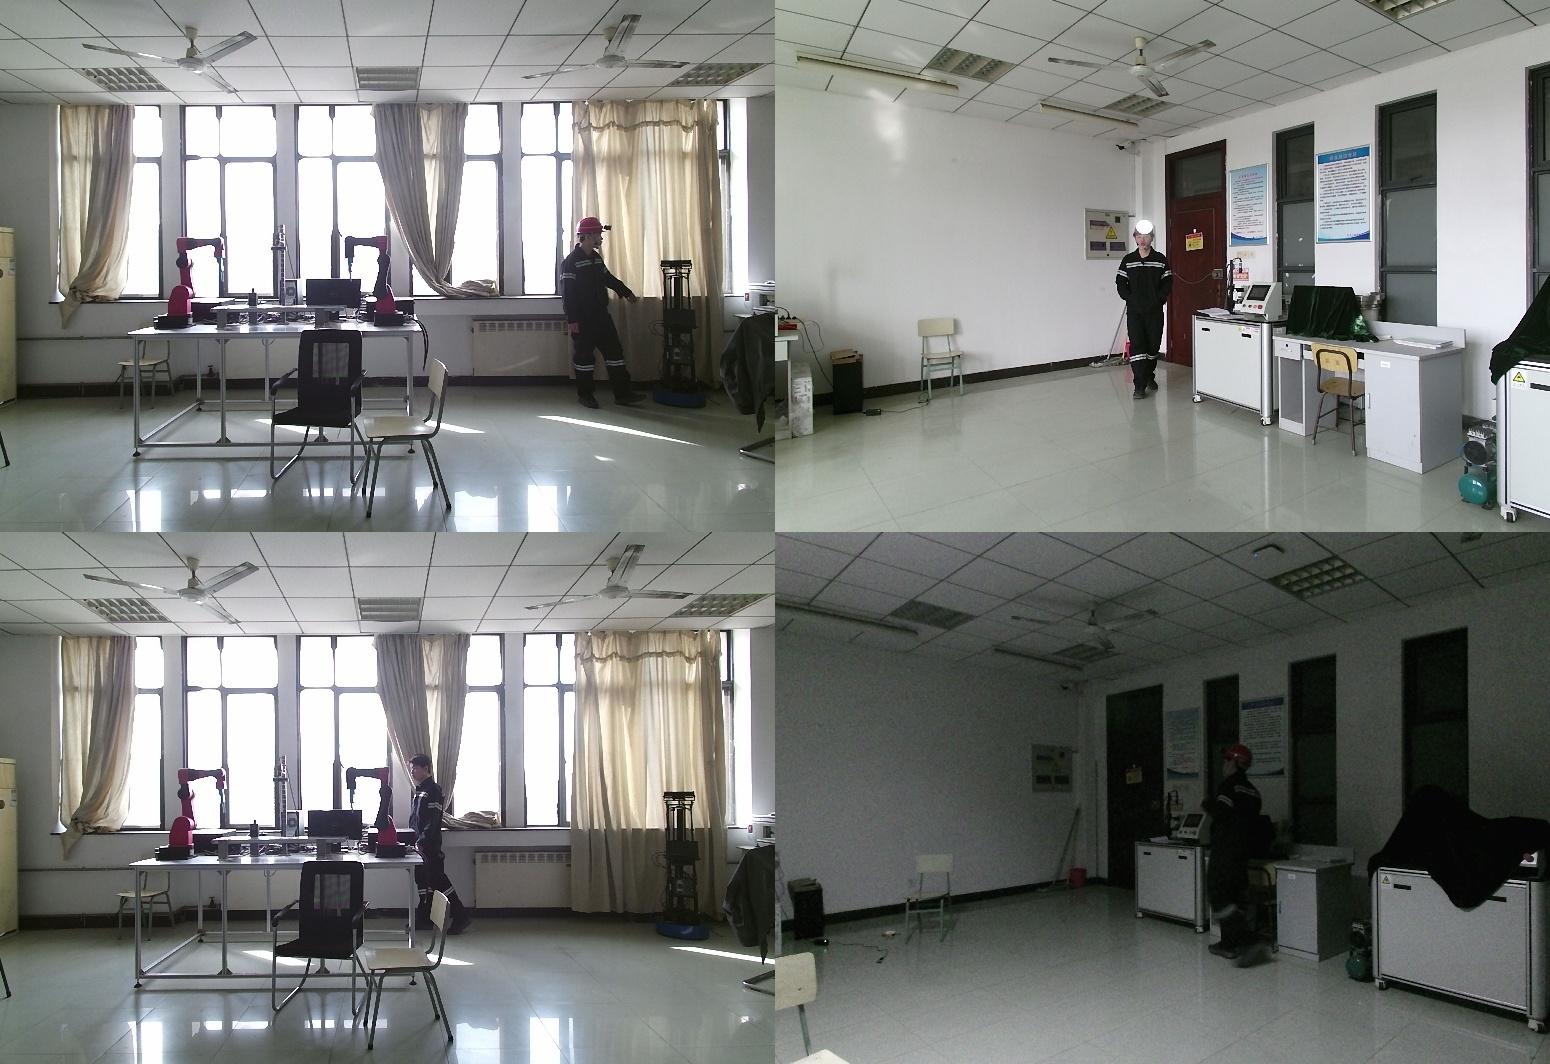person: (559, 218, 652, 419), (1209, 743, 1286, 969), (407, 752, 470, 939), (1117, 228, 1180, 401)
